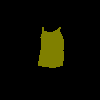canottiera: (38, 26, 64, 68)
